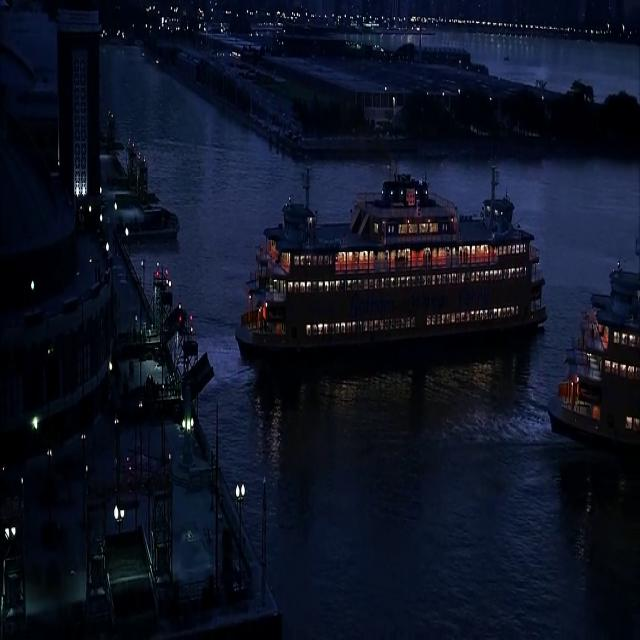Boat: (239, 197, 568, 392), (549, 258, 640, 485)
